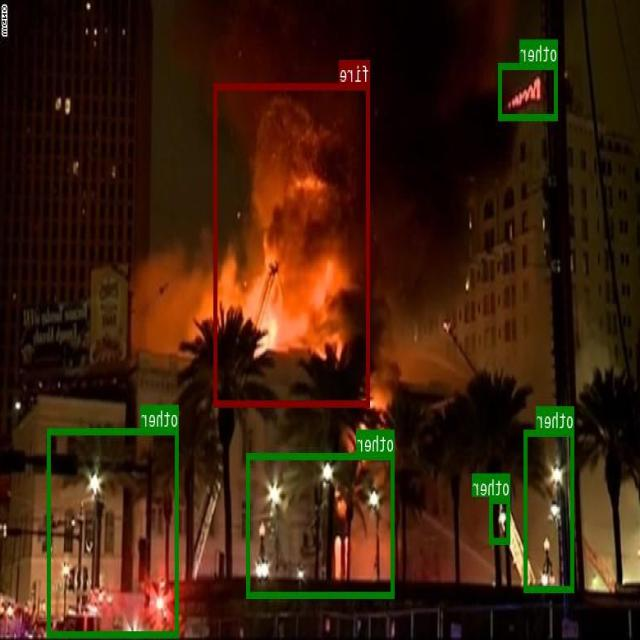fire: (214, 83, 371, 405)
other: (48, 427, 179, 636), (248, 452, 396, 596), (525, 429, 575, 591), (499, 62, 558, 120), (490, 497, 510, 543)
